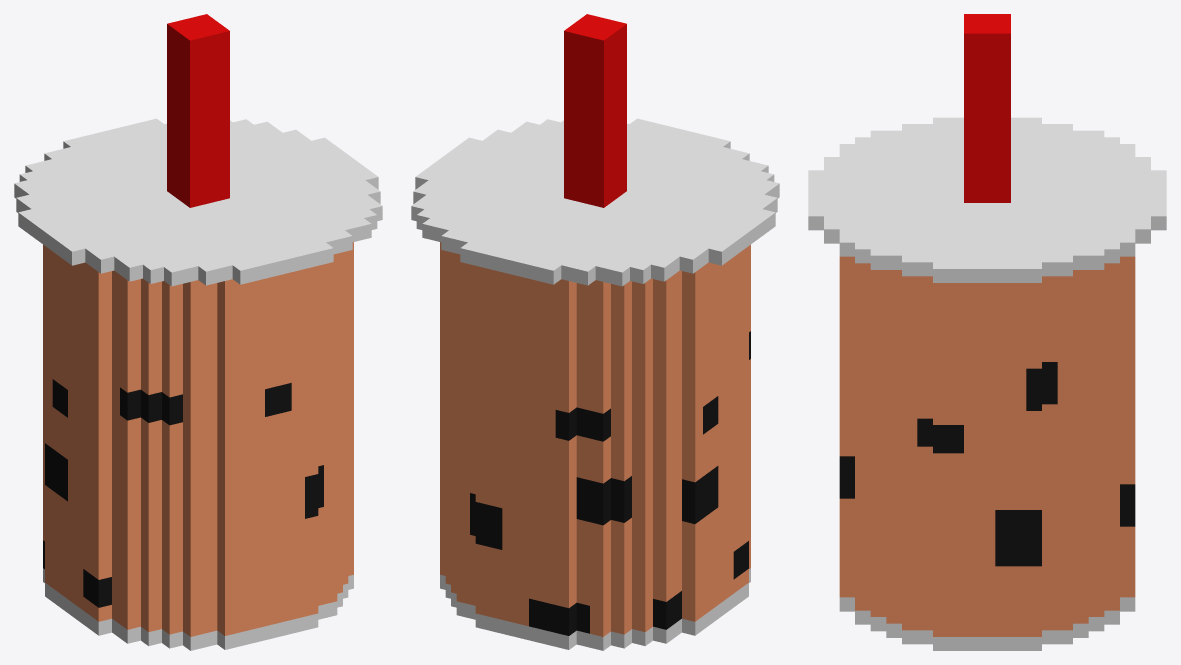
File: tekitousugirutapioca.obj
3 renders of one model, left to right at view 1: azimuth 30°, elevation 25°; view 2: azimuth 150°, elevation 25°; view 3: azimuth 270°, elevation 25°, orthographic.
Bounding box in the file's own units: 2.3 × 4 × 2.3.
1 material, 1 textured.
